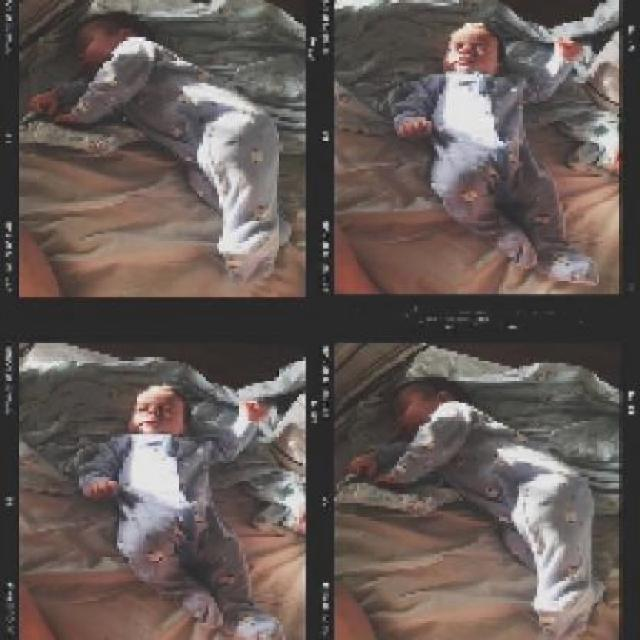child: (28, 10, 288, 279), (346, 374, 606, 637), (392, 22, 602, 284), (71, 383, 286, 637)
